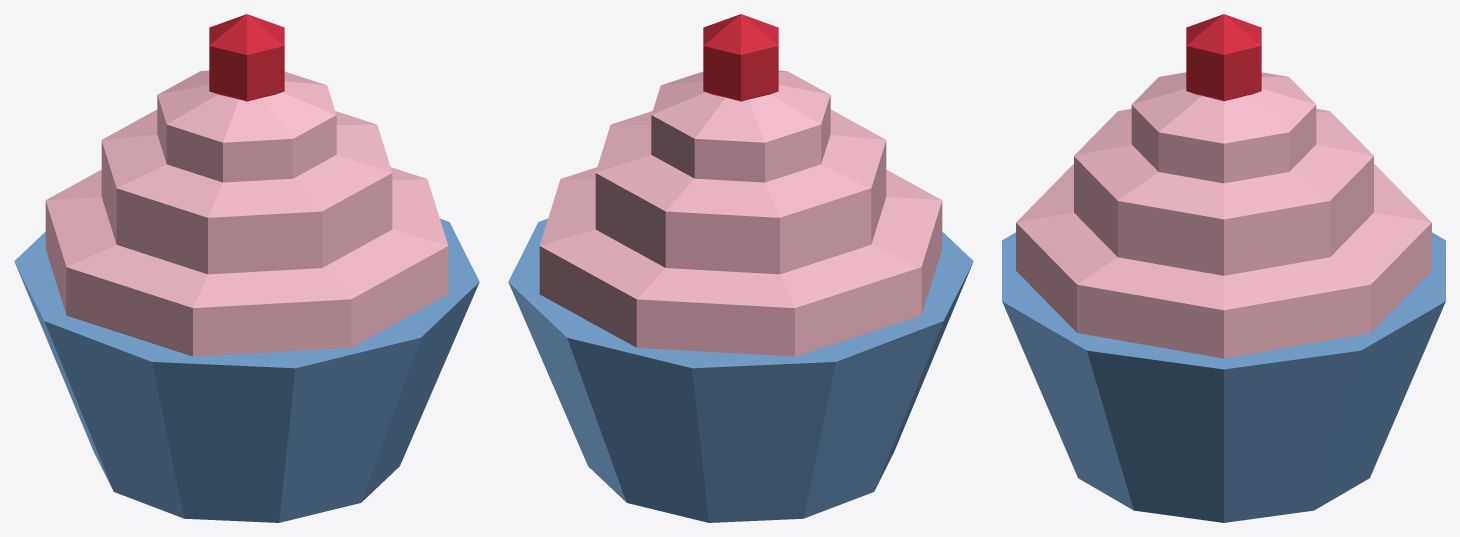
File: Food_Cupcake.obj
3 renders of one model, left to right at view 1: azimuth 30°, elevation 25°; view 2: azimuth 150°, elevation 25°; view 3: azimuth 270°, elevation 25°, orthographic.
Size of the model in its own units: 1.4 by 1.47 by 1.33.
